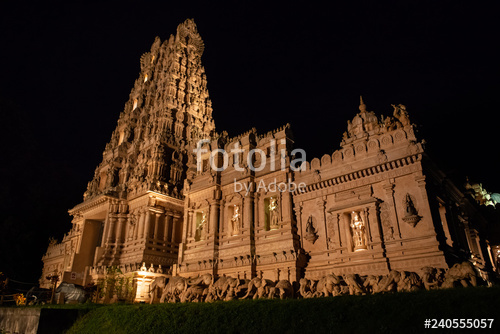Hindu Temple: (91, 23, 437, 285)
